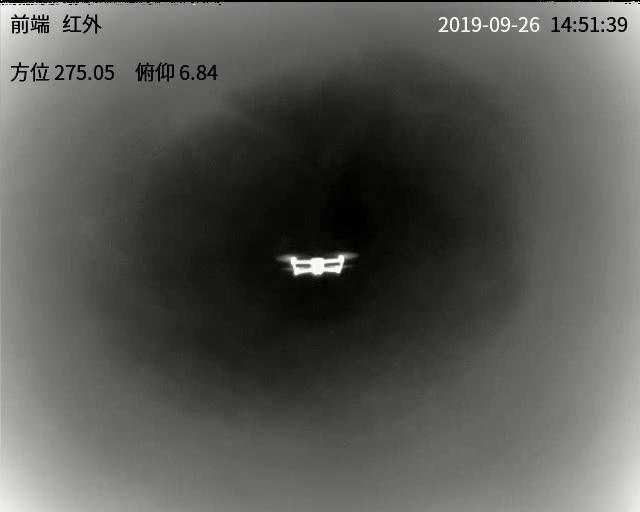DRONE: (282, 253, 349, 276)
